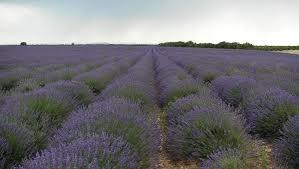field: (0, 45, 298, 167)
